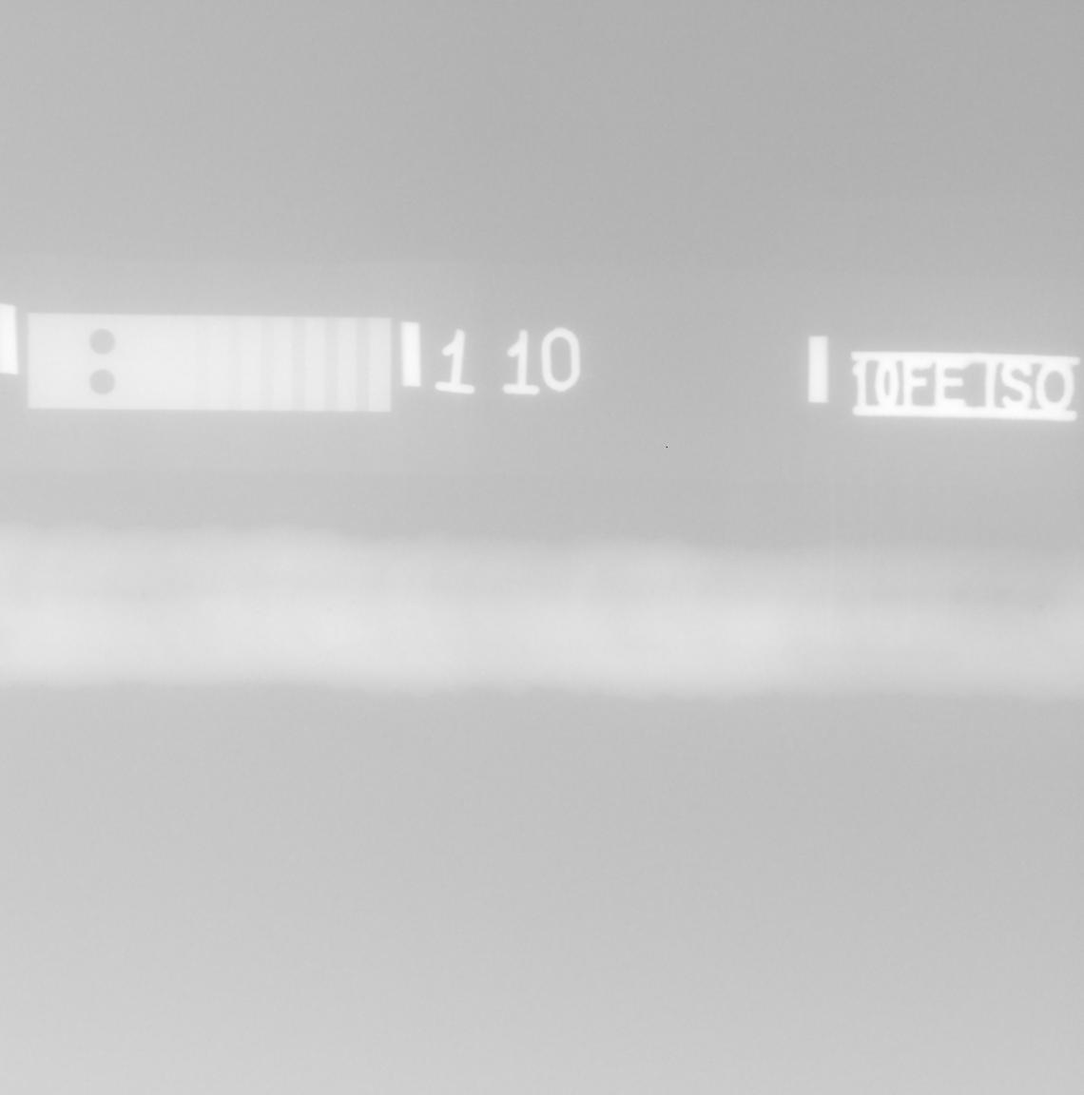Pore/Porosity: (141, 595, 146, 599), (327, 608, 331, 612), (1039, 605, 1043, 609)
Reference Standard 2: (28, 314, 392, 413)
